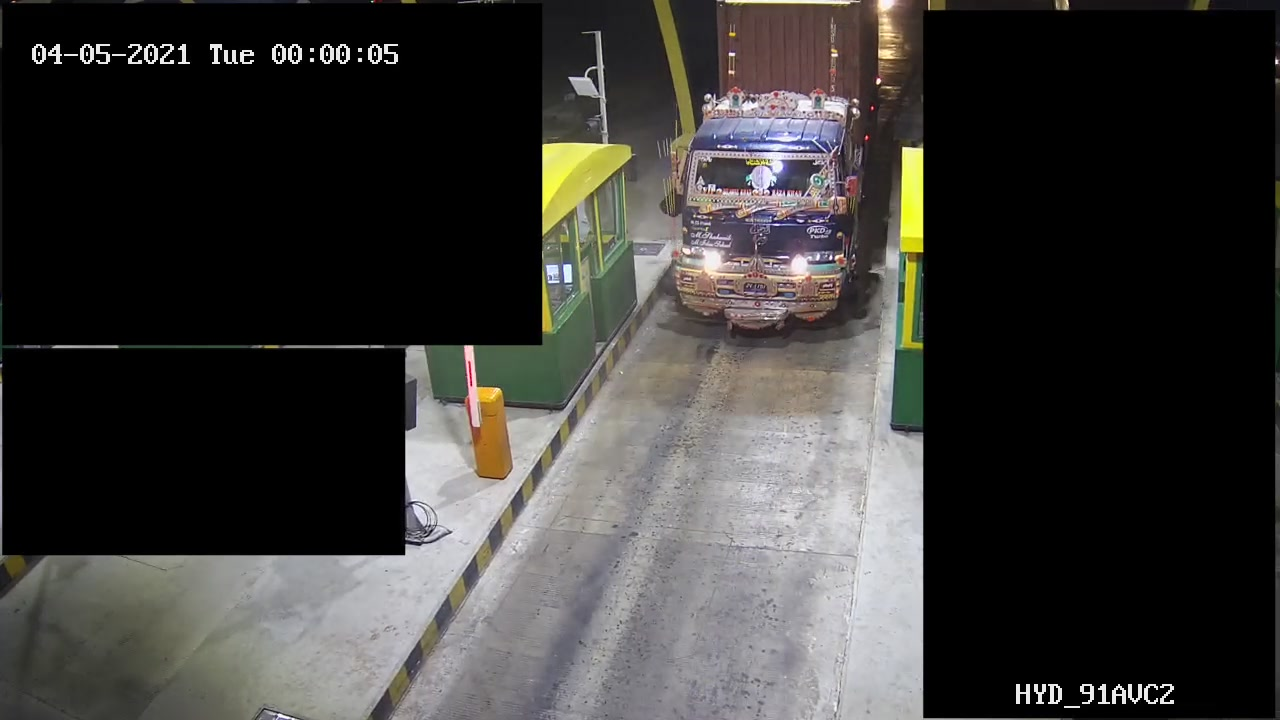F6: (664, 1, 882, 347)
